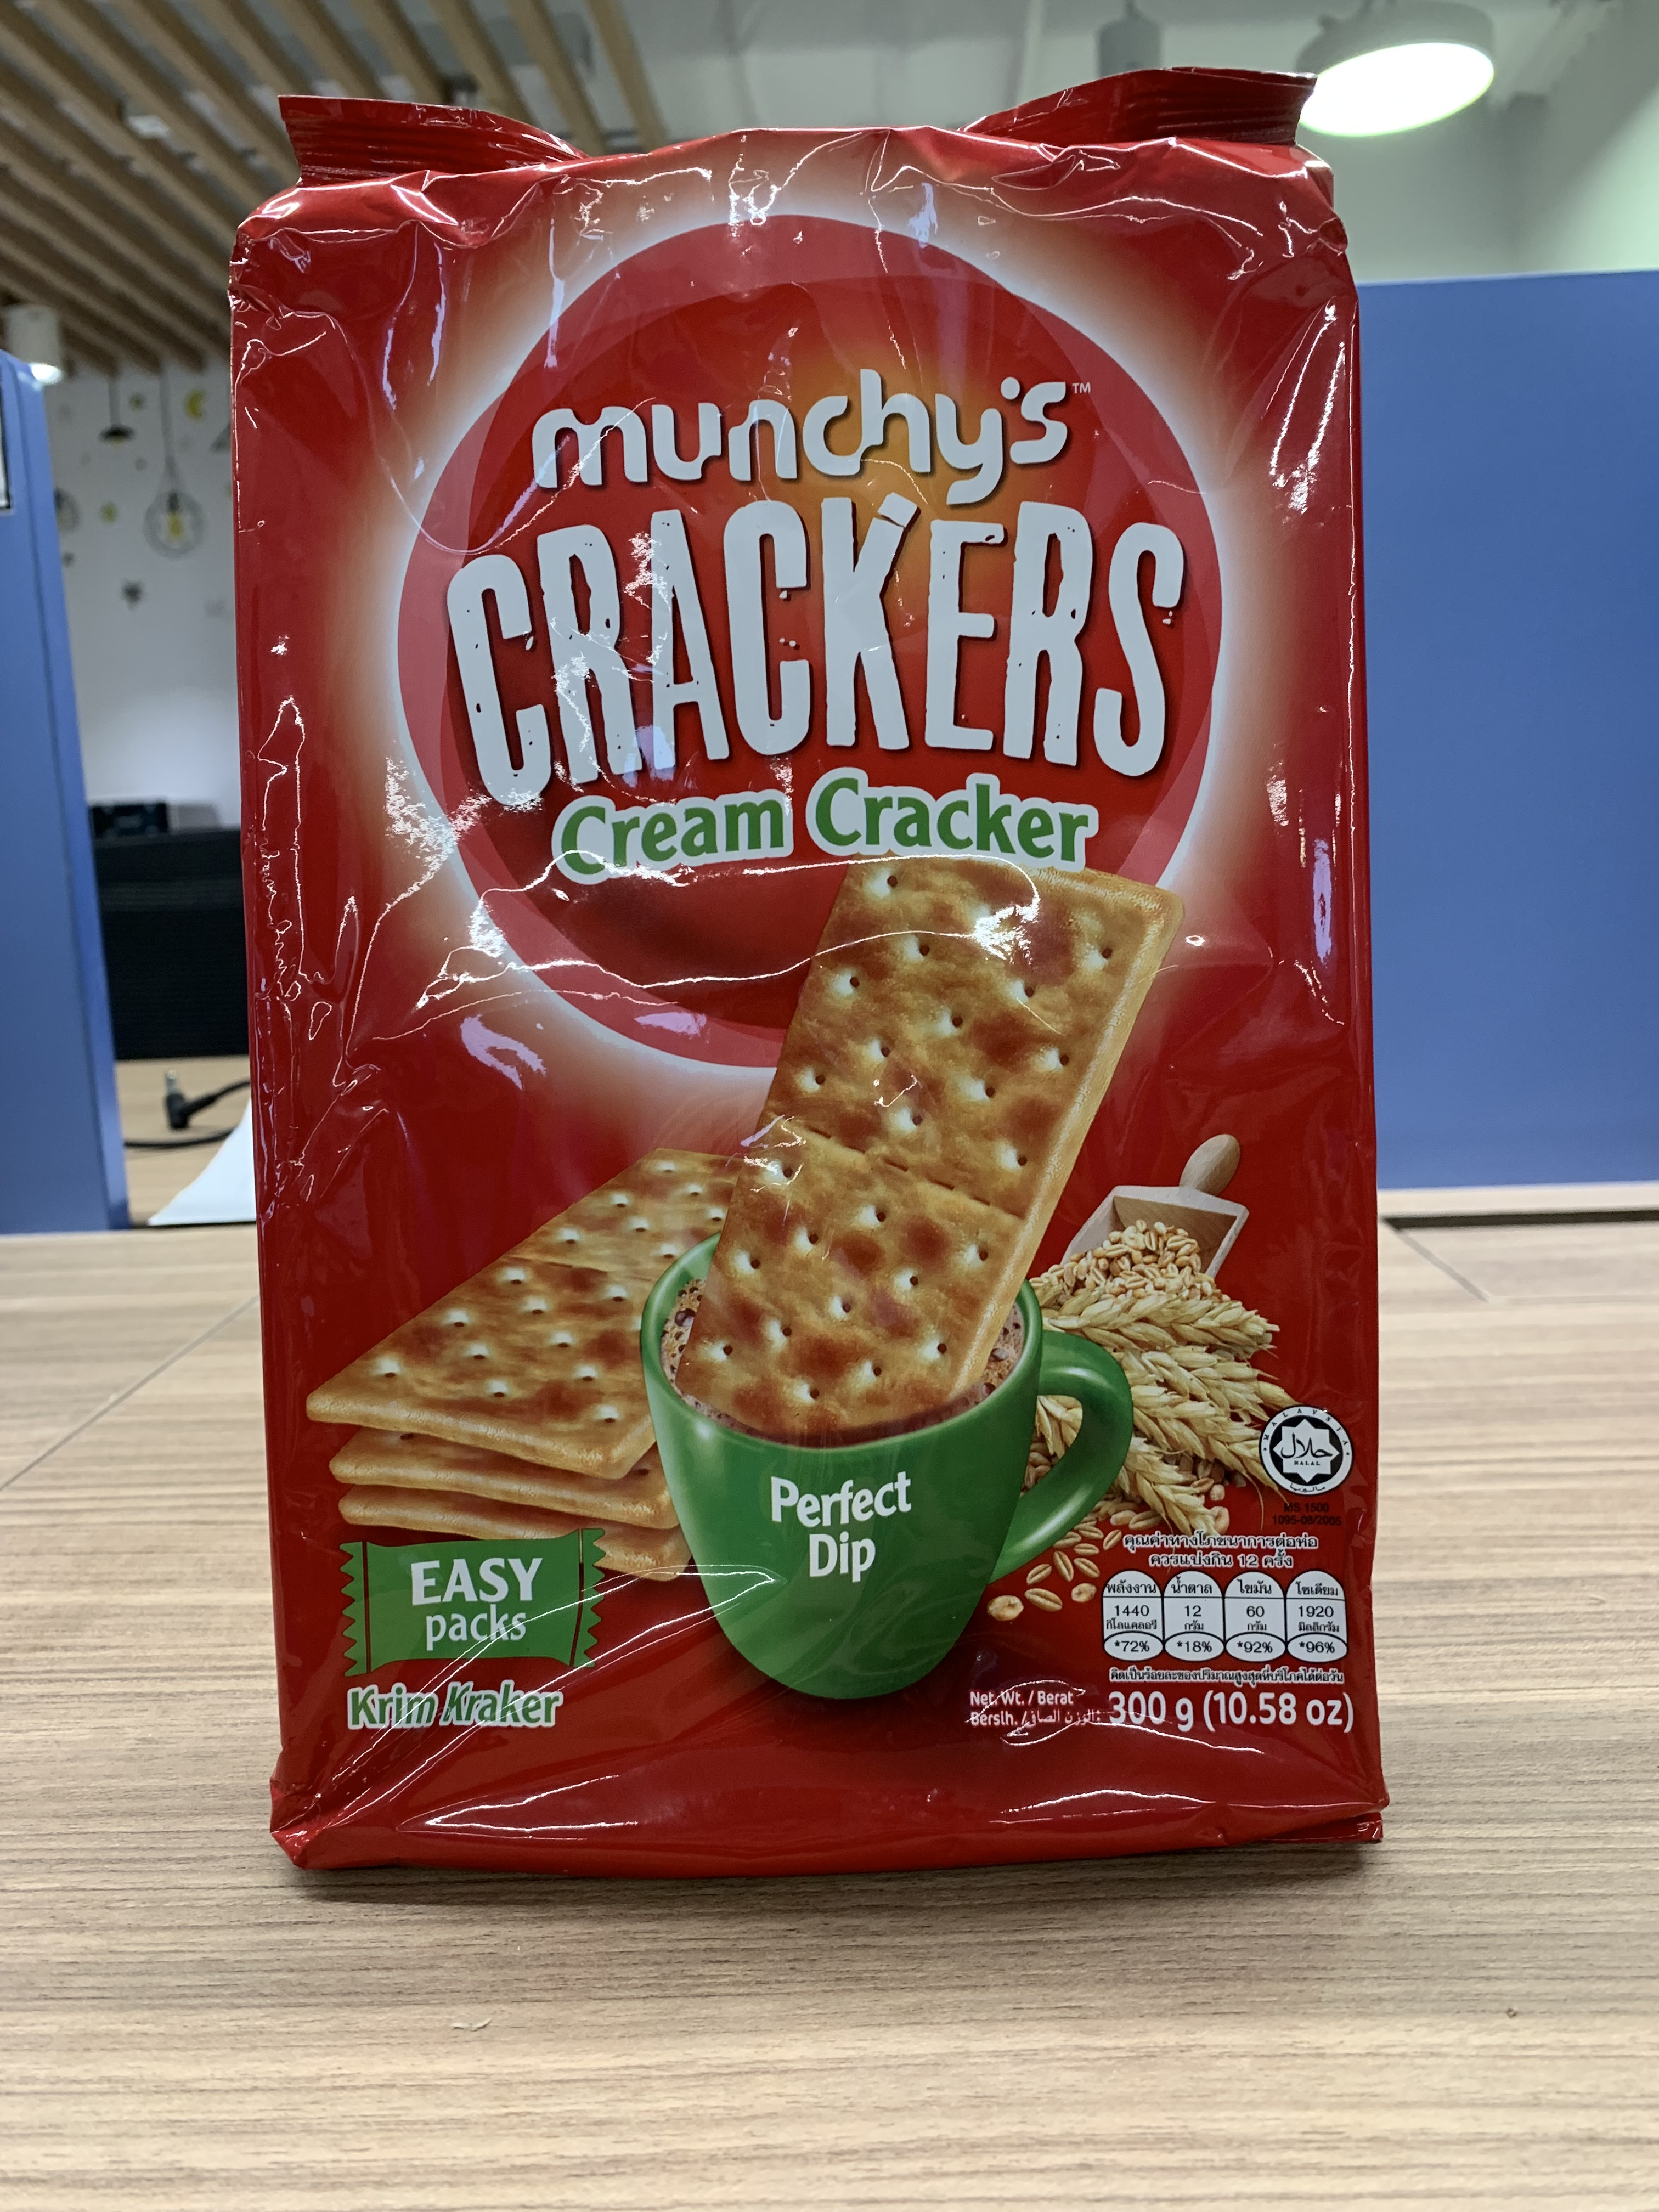crackers_300g-399g: (289, 167, 1387, 1817)
